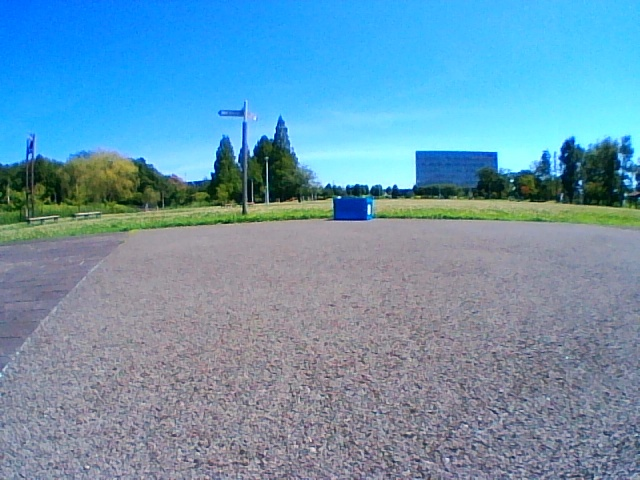blue_box: (334, 197, 372, 221)
tag: (367, 203, 371, 215)
